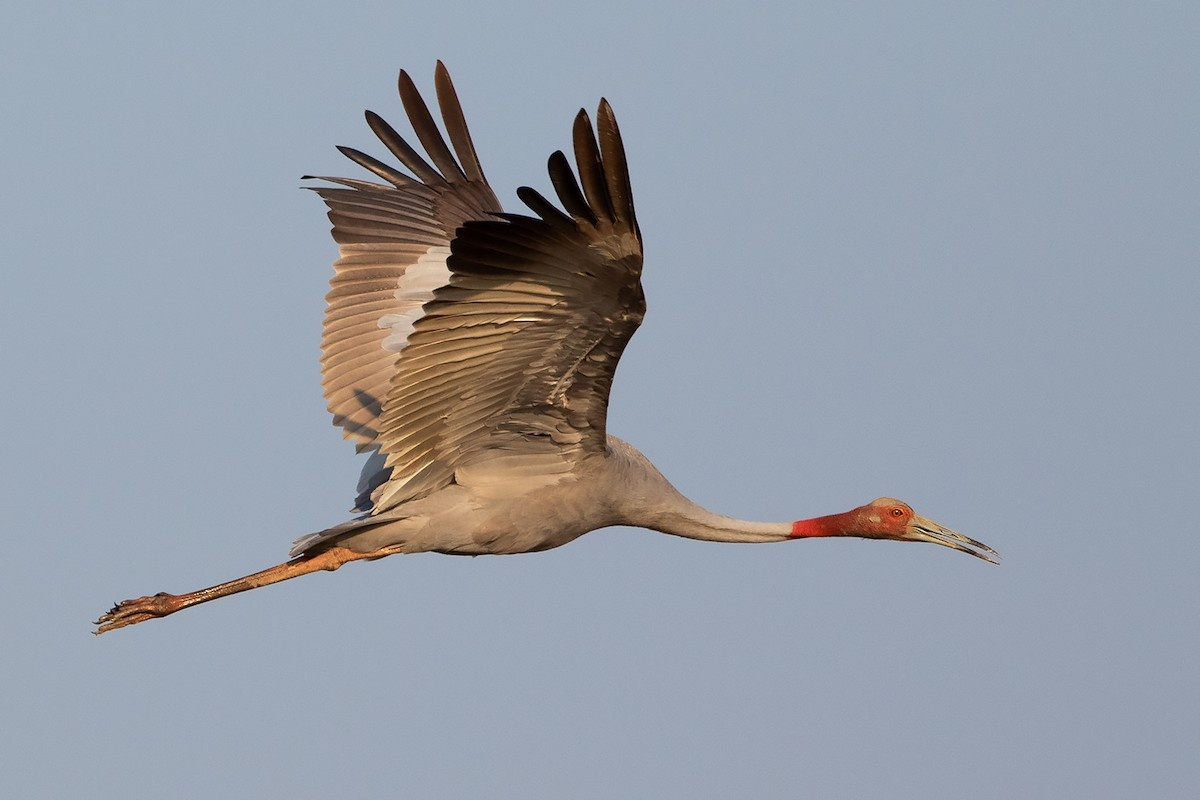crane: (90, 51, 1016, 651)
